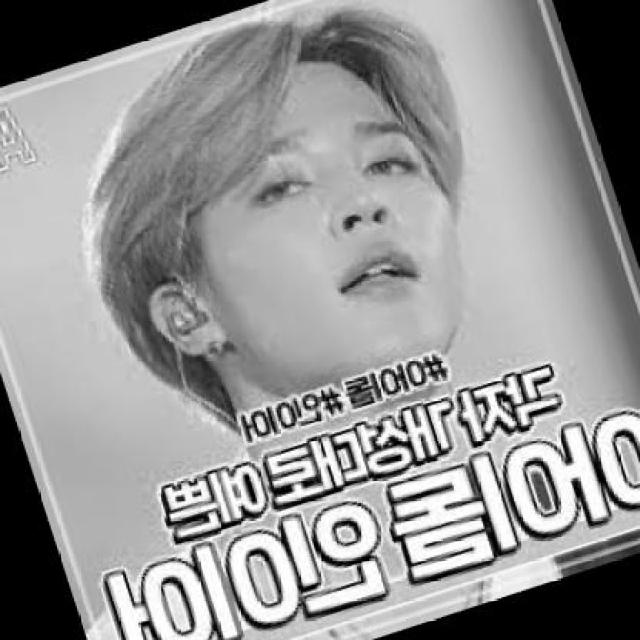earphone: (163, 298, 213, 351)
